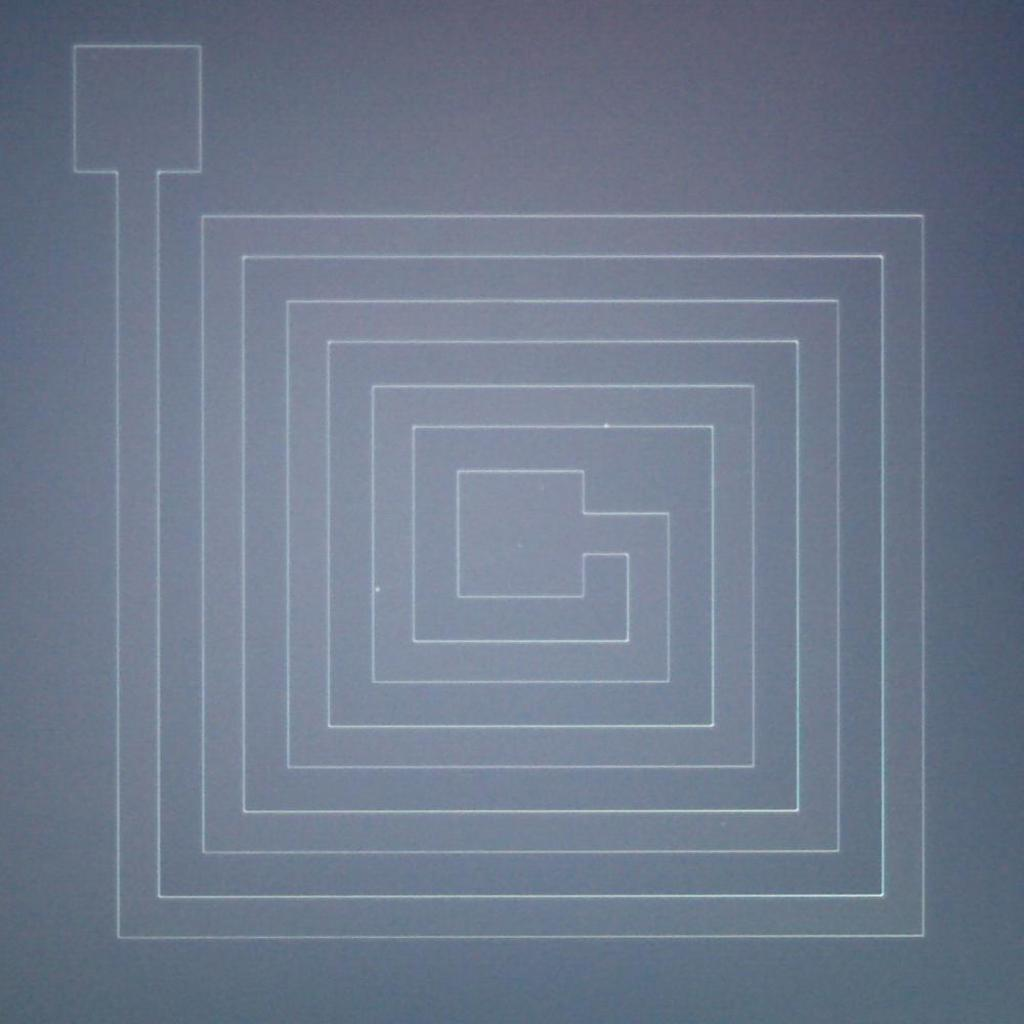dot: (720, 822, 726, 828), (517, 544, 521, 548), (376, 588, 380, 592), (604, 423, 608, 426), (540, 488, 544, 490)
